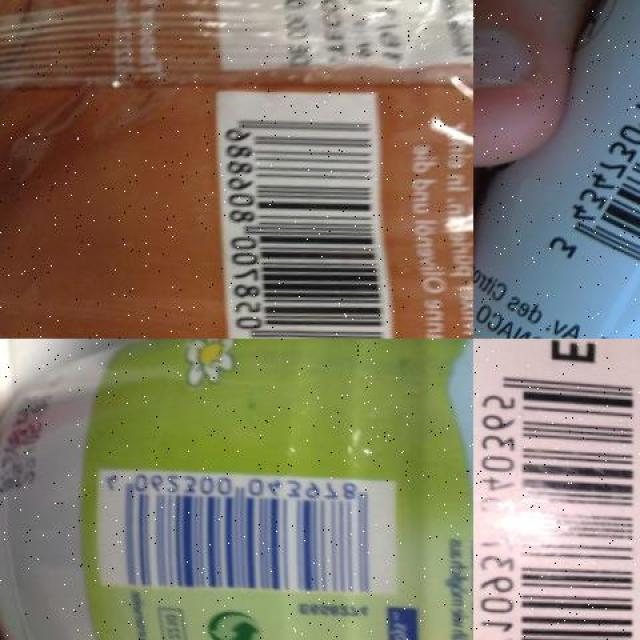Barcode: (473, 361, 640, 640), (213, 82, 392, 338), (91, 467, 397, 593), (532, 0, 640, 316)
